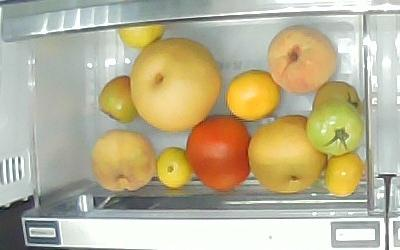peach: (268, 25, 336, 95), (91, 130, 156, 192)
pear: (129, 38, 222, 131), (248, 115, 327, 193)
tangerine: (225, 70, 281, 121), (325, 151, 363, 197), (157, 147, 191, 187), (116, 23, 166, 48)
tomato: (186, 115, 252, 192), (307, 99, 363, 155), (98, 76, 137, 124), (313, 81, 360, 114)
